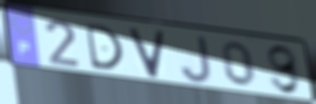0: (220, 41, 259, 89)
2: (44, 18, 82, 69)
9: (263, 44, 303, 96)
D: (83, 22, 126, 72)
J: (179, 34, 214, 85)
V: (126, 26, 168, 81)
